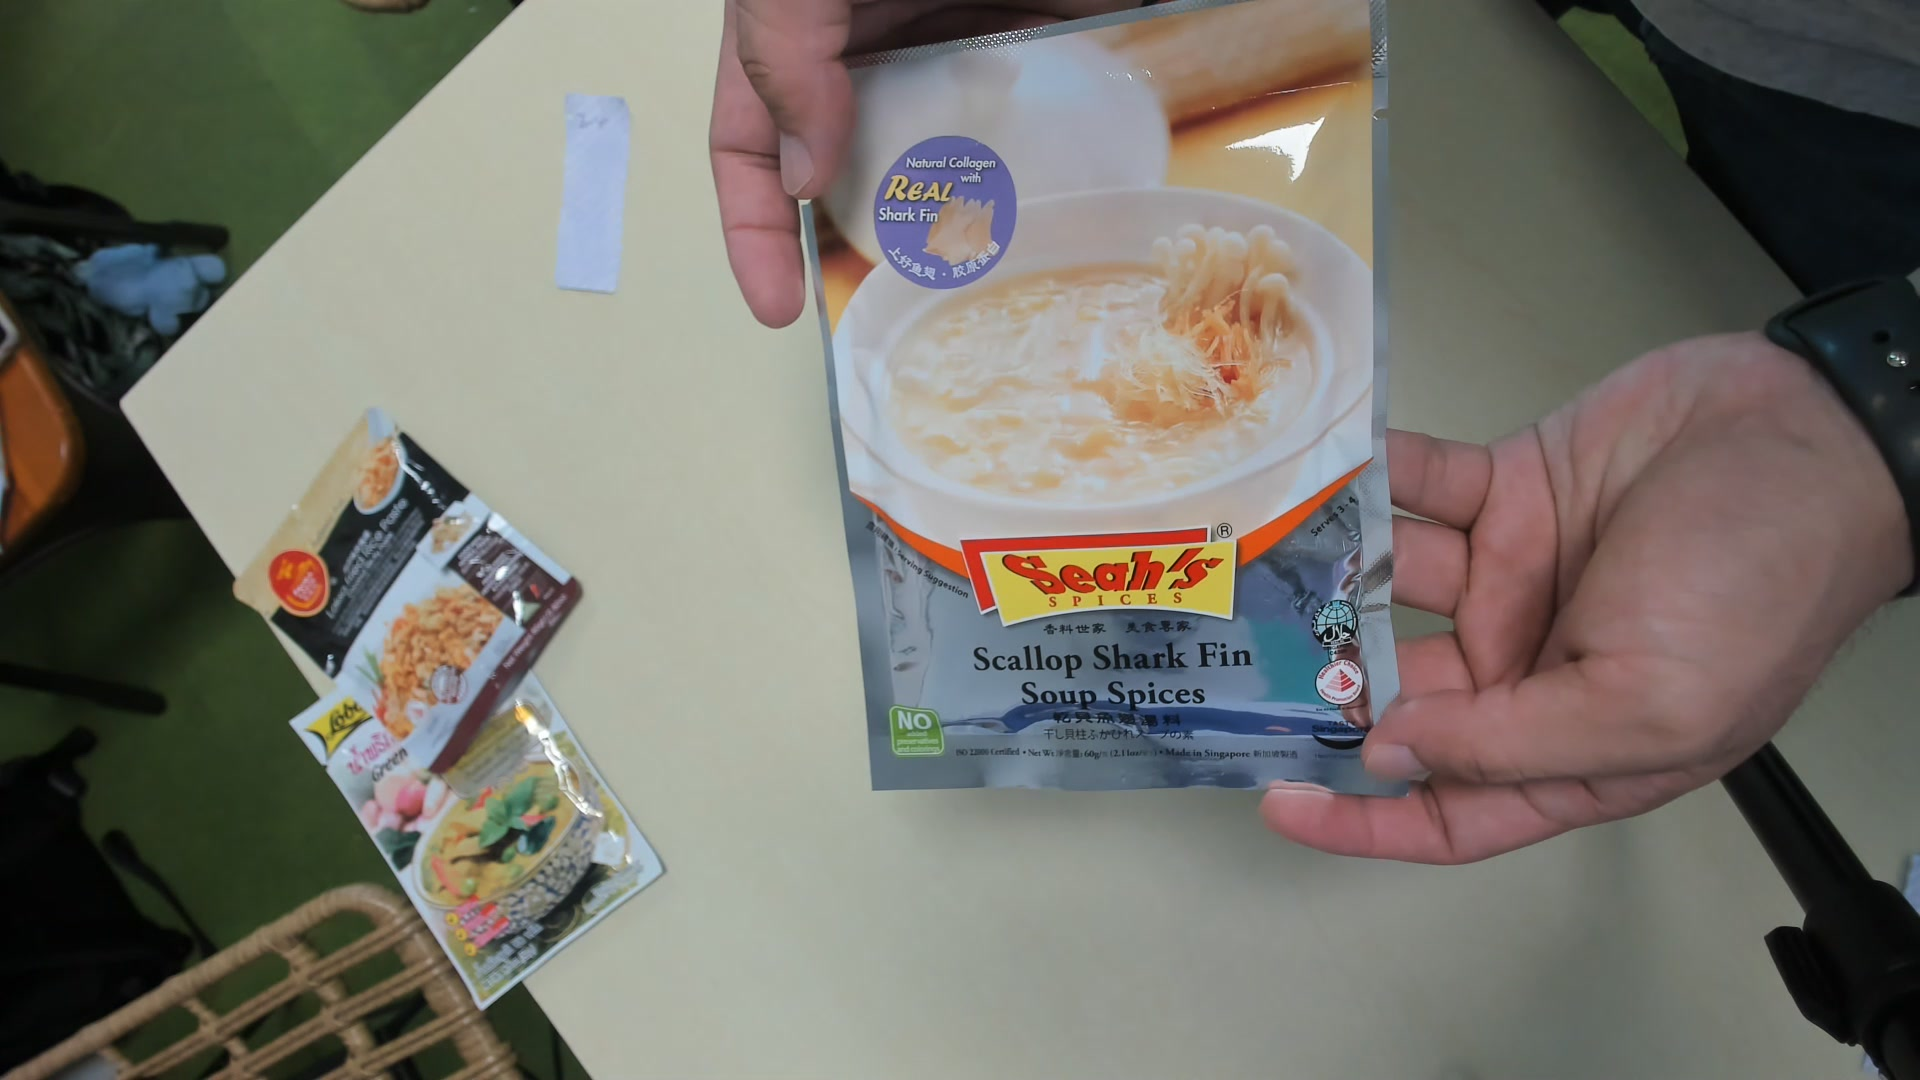OtherSauceDressing_0-99g_Halal_NonHealthy: (793, 7, 1410, 808)
